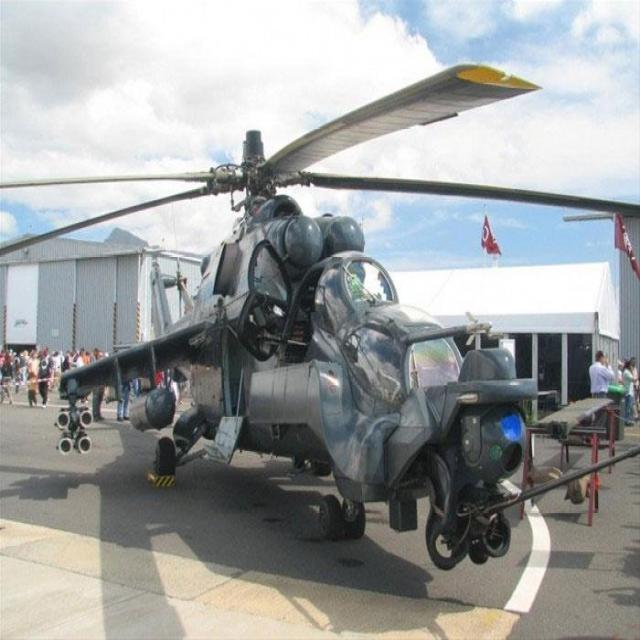MIL_HELO: (0, 63, 640, 575)
